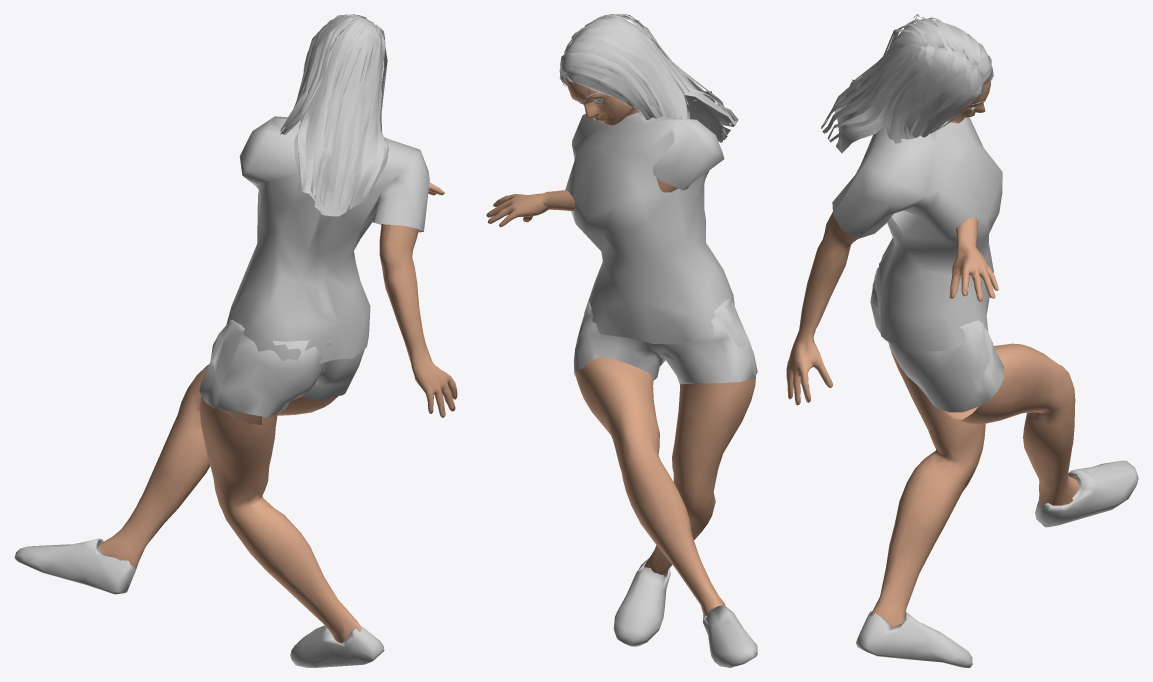
File: player2att_000031.obj
3 renders of one model, left to right at view 1: azimuth 30°, elevation 25°; view 2: azimuth 150°, elevation 25°; view 3: azimuth 270°, elevation 25°, orthographic. The views are drawn at different scales.
Parts seen in each view (by area): view 1: player2:Body, player2:tshirt02, player2:fhair01, player2:short01, player2:shoes02; view 2: player2:tshirt02, player2:Body, player2:fhair01, player2:short01, player2:shoes02; view 3: player2:Body, player2:tshirt02, player2:fhair01, player2:shoes02, player2:short01.
Boxes of the visible parts, x1,y1,x2,y2 form: player2:Body: (98, 183, 457, 643); player2:tshirt02: (226, 116, 429, 363); player2:fhair01: (280, 14, 389, 216); player2:short01: (199, 320, 364, 417); player2:shoes02: (14, 538, 384, 667); player2:tshirt02: (565, 112, 734, 344); player2:Body: (486, 78, 755, 619); player2:fhair01: (559, 14, 738, 142); player2:short01: (573, 299, 757, 384); player2:shoes02: (613, 558, 757, 667); player2:Body: (786, 81, 1078, 627); player2:tshirt02: (832, 117, 1002, 351); player2:fhair01: (821, 14, 993, 153); player2:shoes02: (856, 460, 1138, 667); player2:short01: (870, 267, 1004, 412).
Bounding box in the file's own units: 9.07 × 15.86 × 7.59.
